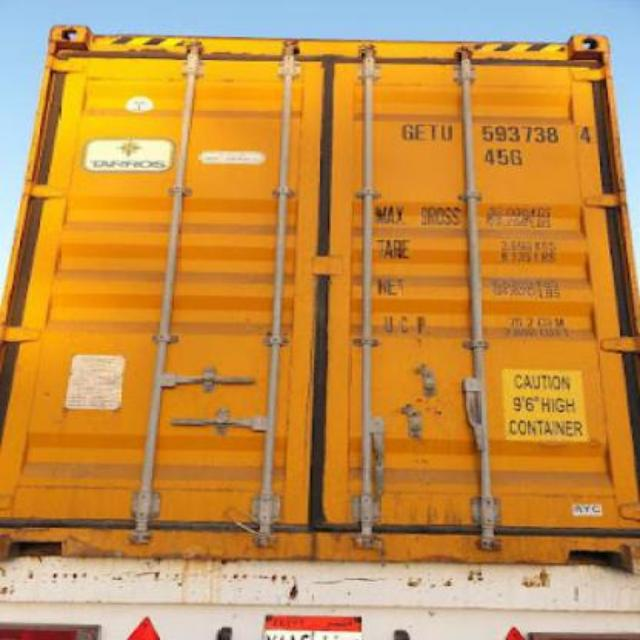3: (508, 122, 522, 146), (534, 124, 546, 144)
4: (580, 126, 592, 144)
5: (482, 124, 494, 142)
7: (520, 122, 534, 146)
8: (546, 126, 560, 144)
9: (496, 122, 508, 144)
E: (414, 122, 428, 144)
G: (401, 121, 414, 142)
T: (424, 121, 442, 141)
U: (441, 123, 454, 141)
